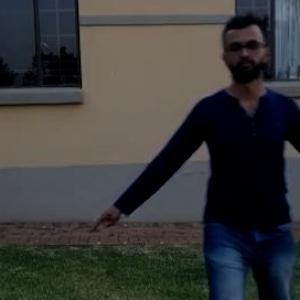land: (109, 43, 299, 299)
